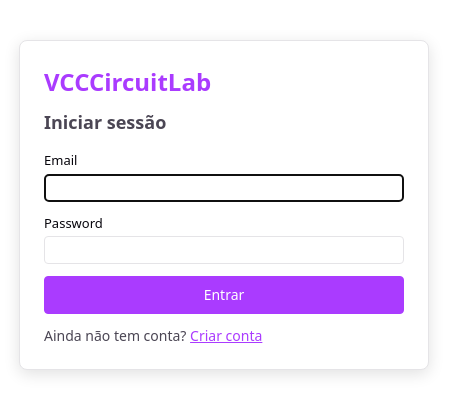
Test: LoginScreen › mostra o erro da API e limpa a password
This screenshot has width=449, height=418.
Type "ana@exemplo.pt" into the field labelled "Email". click: (224,188)
box: [44,174,404,202]
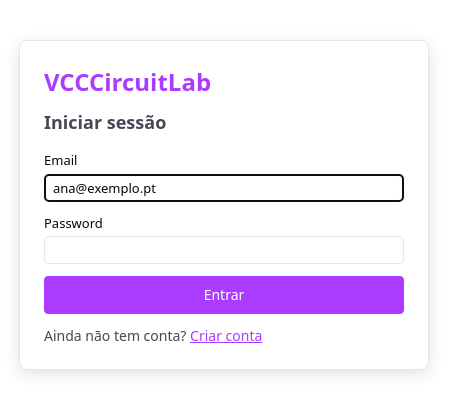
Type "errada" into the password field labelled "Password". click: (224,250)
box: [44,236,404,264]
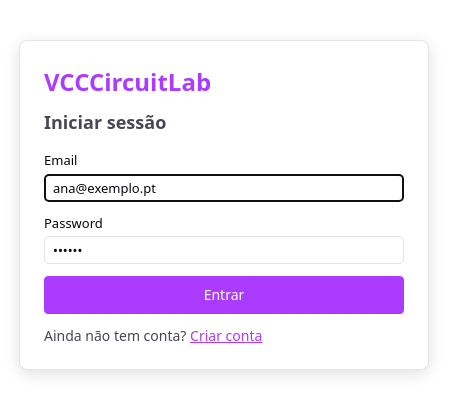
Click the button "Entrar". click: (224,295)
box: [44,276,404,314]
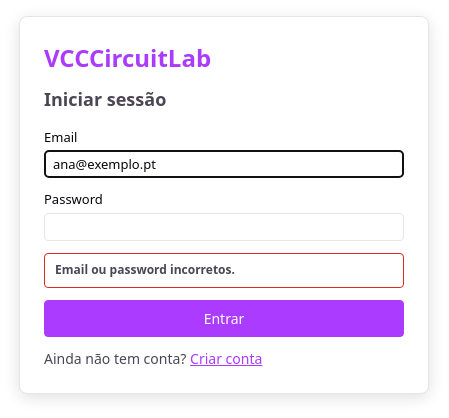
Result: the message reads "Email ou password incorretos." at [55,261,235,278]
Result: the password field labelled "Password" is empty at [44,213,404,241]
